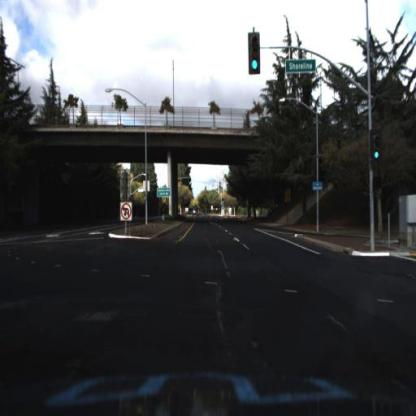trafficLight: (369, 126, 385, 173), (248, 32, 261, 76)
